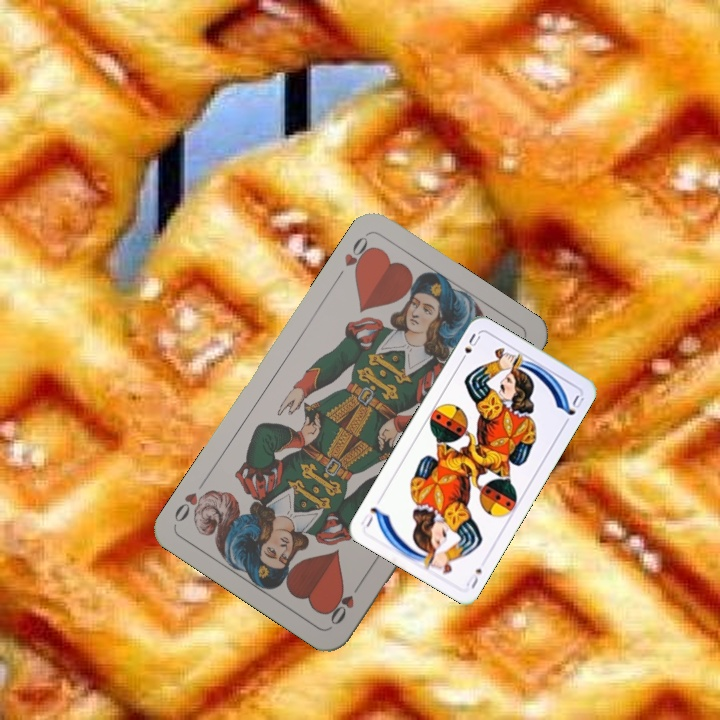HO: (331, 231, 377, 284), (325, 576, 365, 628)
SU: (456, 329, 483, 366), (462, 564, 485, 592)
